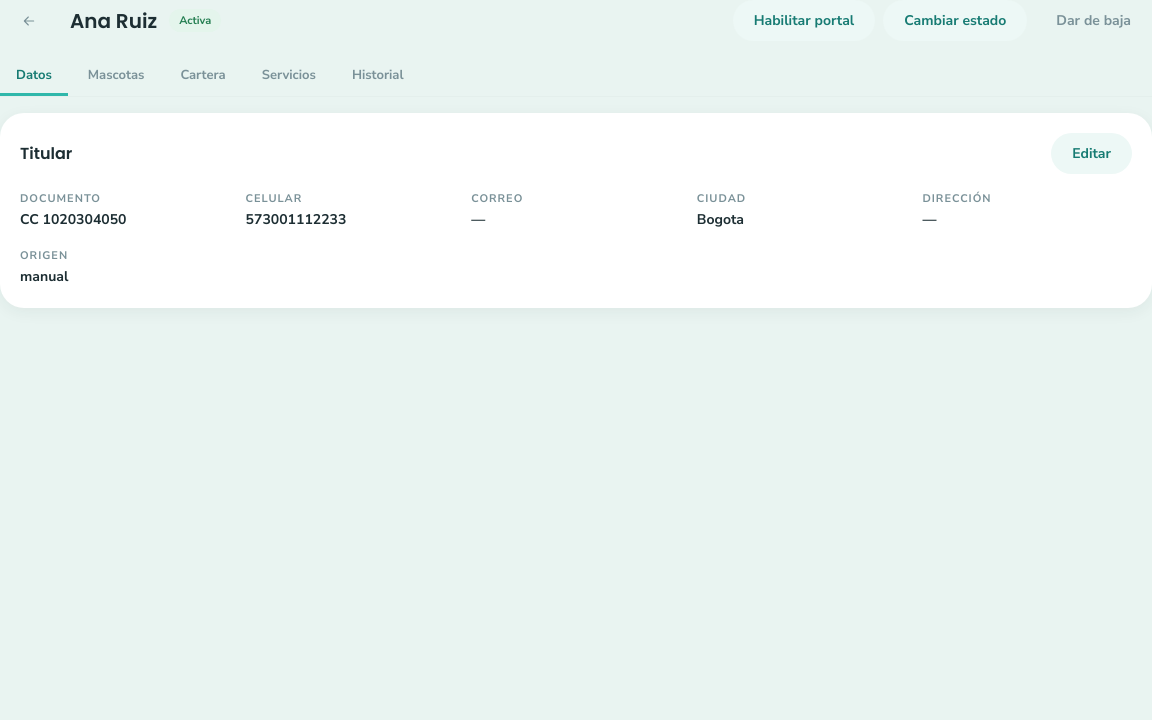
Test: FamiliaDetallePage › afilia a una familia sin contrato y registra el pago recibido
The image size is (1152, 720).
Click the tab "Cartera": point(203, 77) 164,57 -> 242,96
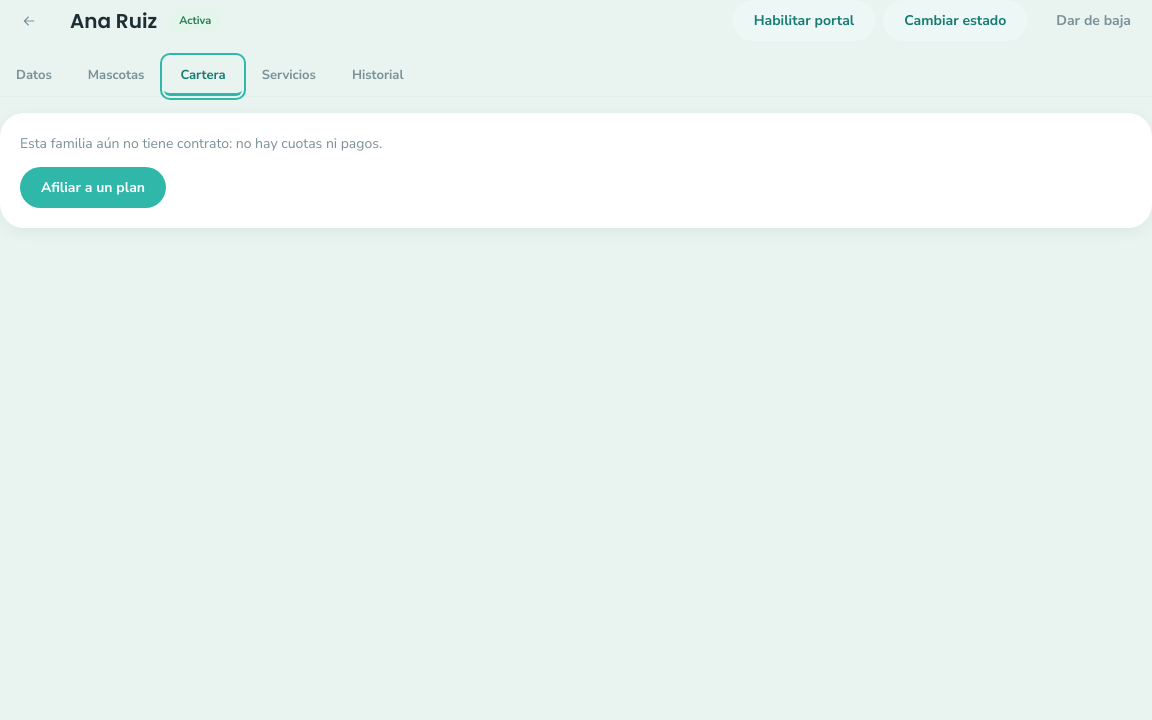
Click the button "Afiliar a un plan": point(93, 187) 20,167 -> 166,208
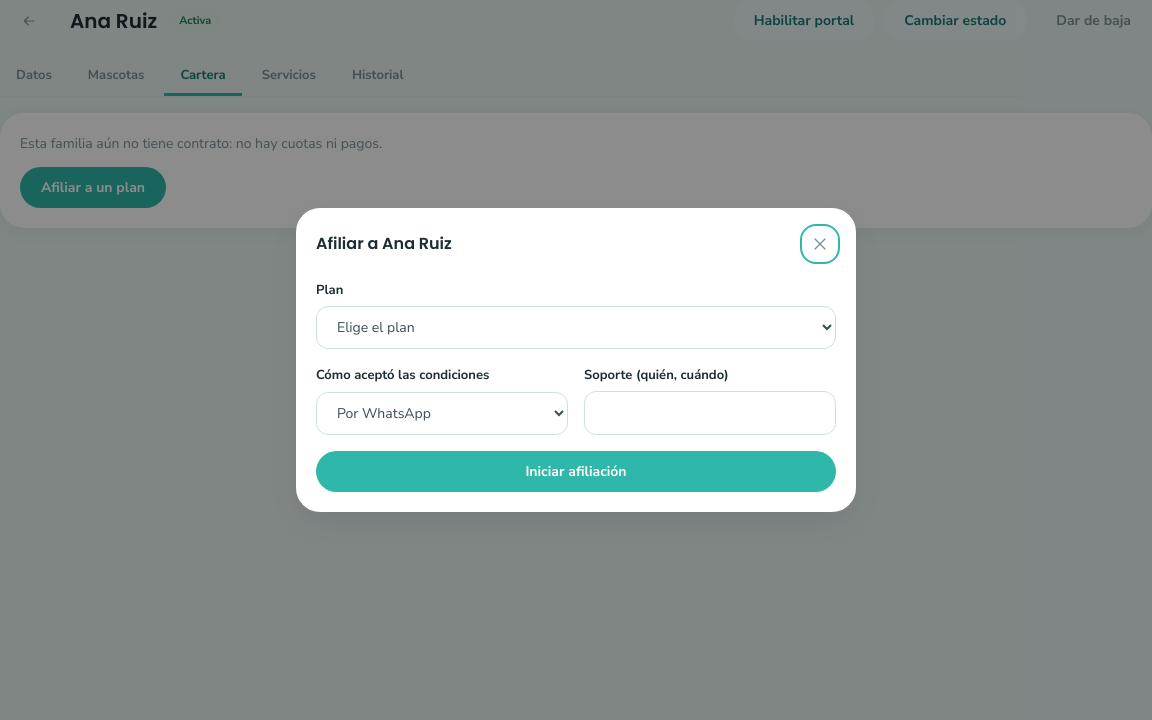
Select "Plan Familiar · $ 75.000 · hasta 3 mascotas" in the dropdown labelled "Plan": point(576, 328) 316,306 -> 836,349
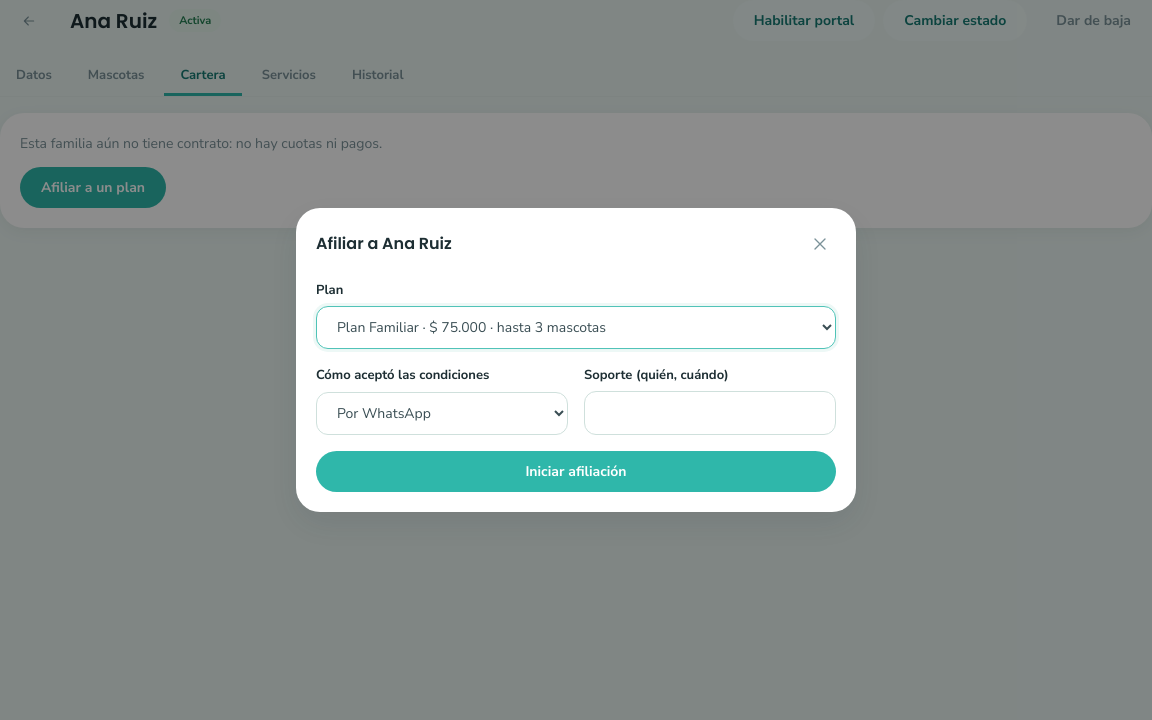
Click the button "Iniciar afiliación": point(576, 472) 316,451 -> 836,492
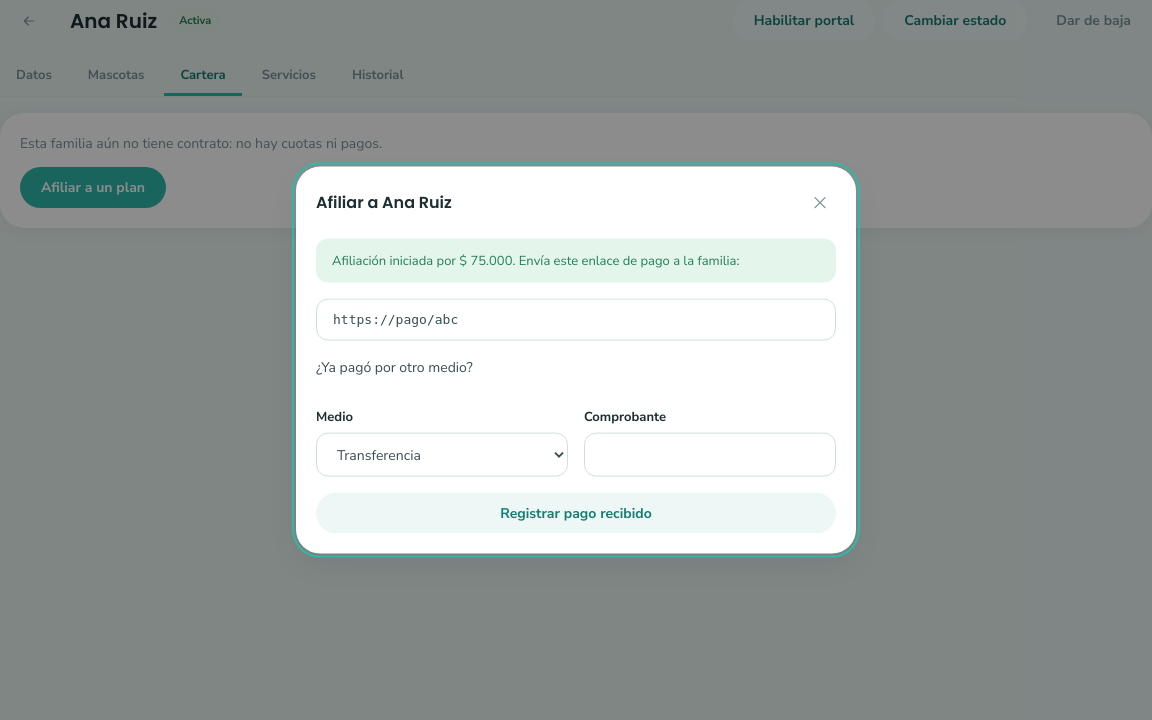
Now the field named "Enlace de pago" holds "https://pago/abc", box 316,299 -> 836,341
In the field labelled "Comprobante": point(710, 455) 584,433 -> 836,476, type "TRF-99"
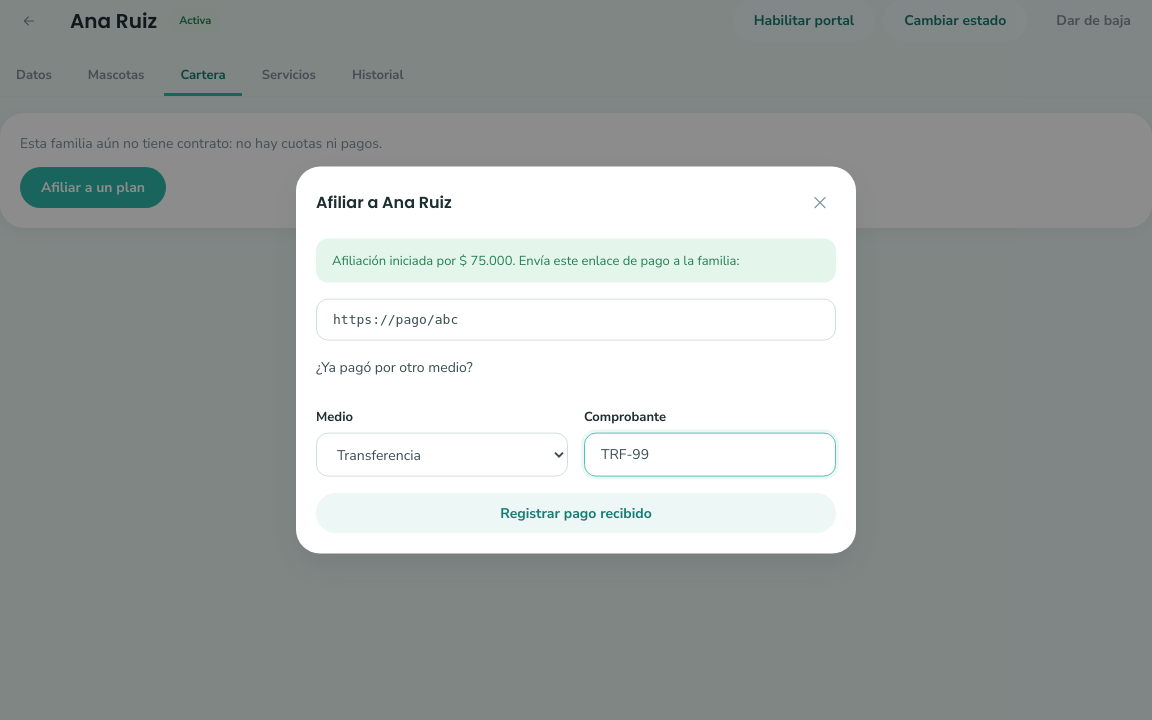
Click the button "Registrar pago recibido": point(576, 513) 316,492 -> 836,533
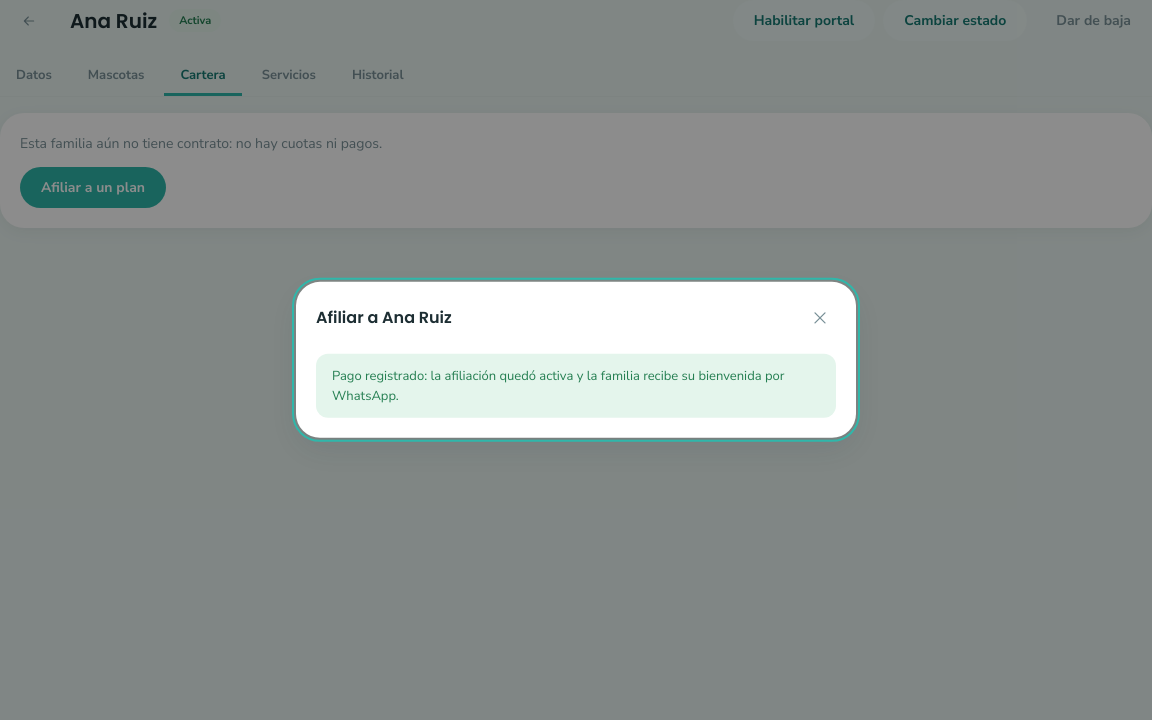
Now the text "la afiliación quedó activa" is shown, box 332,367 -> 784,405
